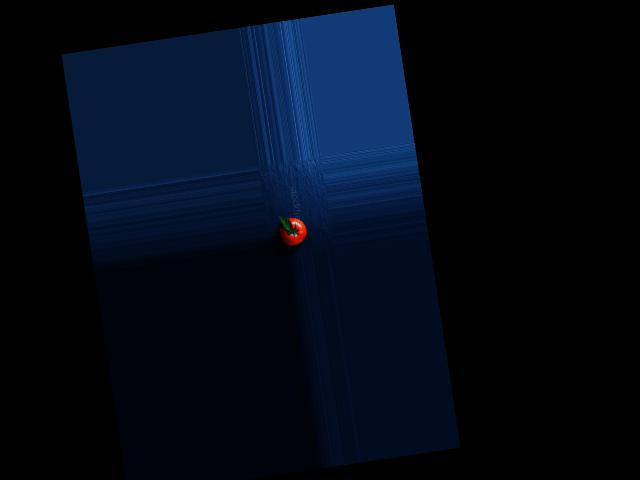tomato: (277, 215, 308, 247)
